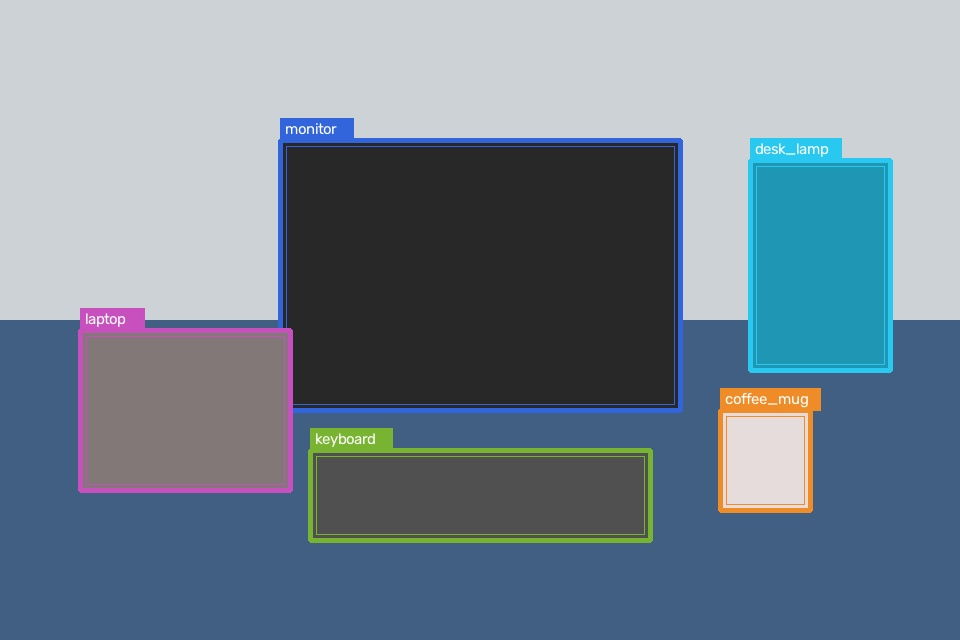coffee_mug: (720, 410, 810, 510)
desk_lamp: (750, 160, 890, 370)
keyboard: (310, 450, 650, 540)
laptop: (80, 330, 290, 490)
monitor: (280, 140, 680, 410)
